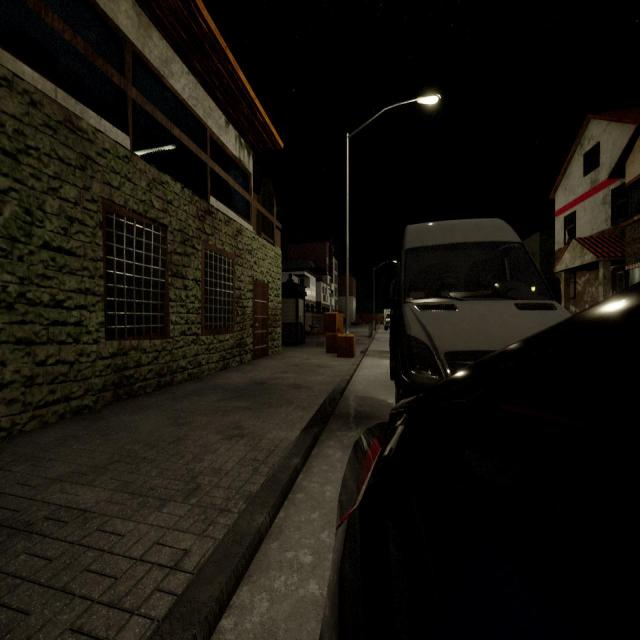Vehicle: (321, 290, 640, 640), (391, 220, 571, 408), (382, 307, 392, 331)
